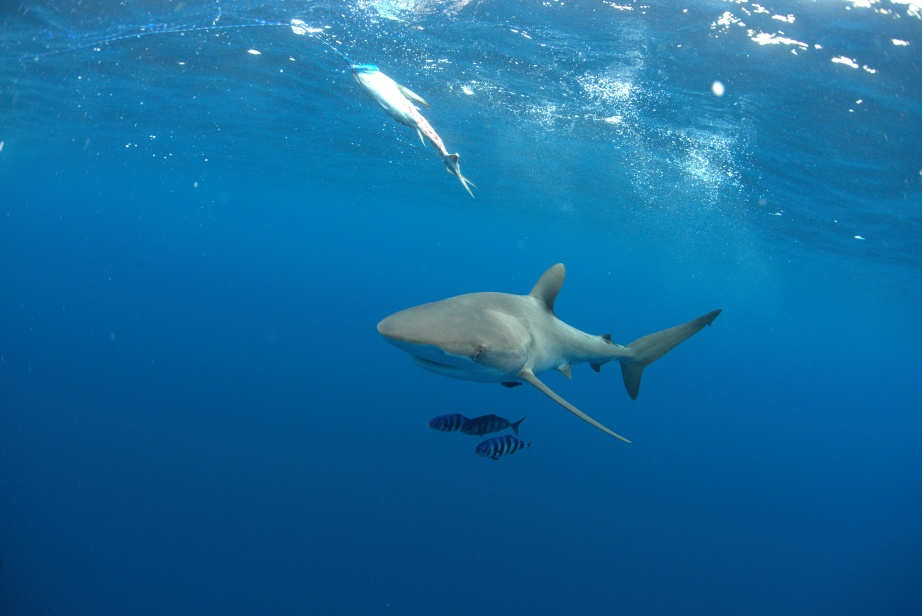Sedoso: (355, 250, 733, 459)
